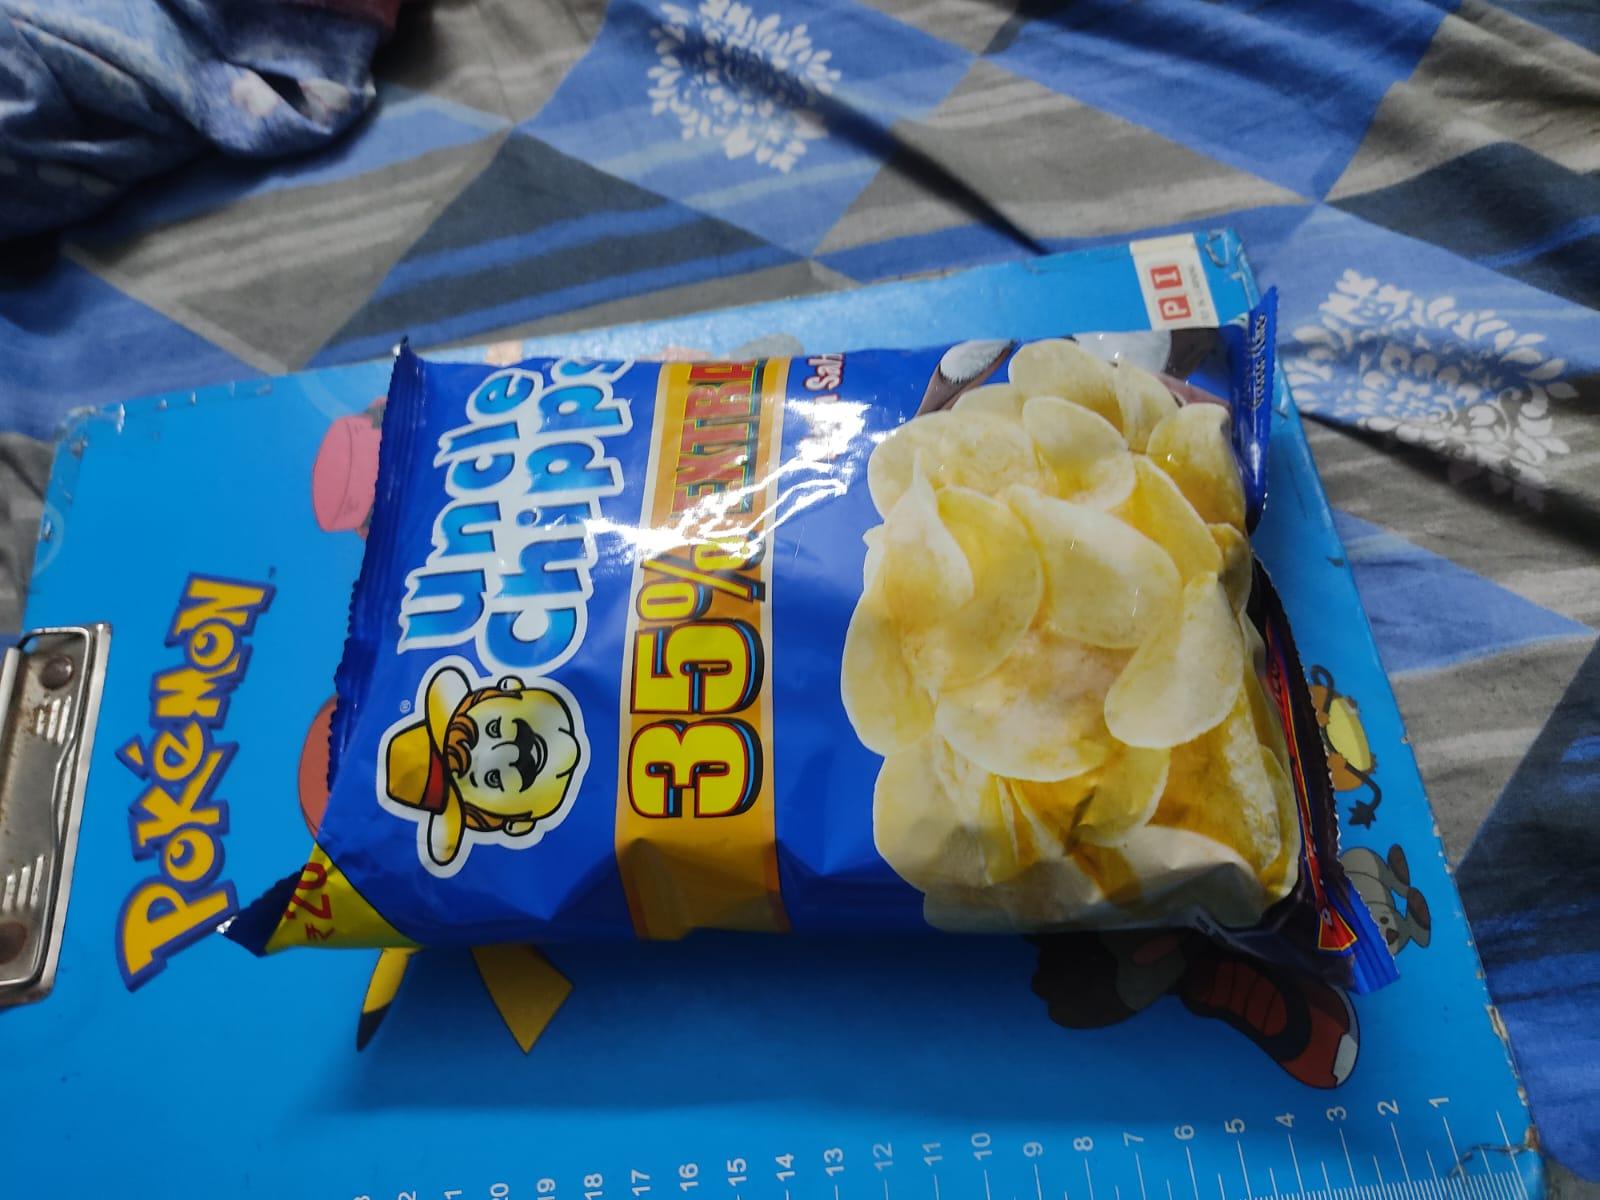020_UncleChips: (278, 321, 1265, 939)
